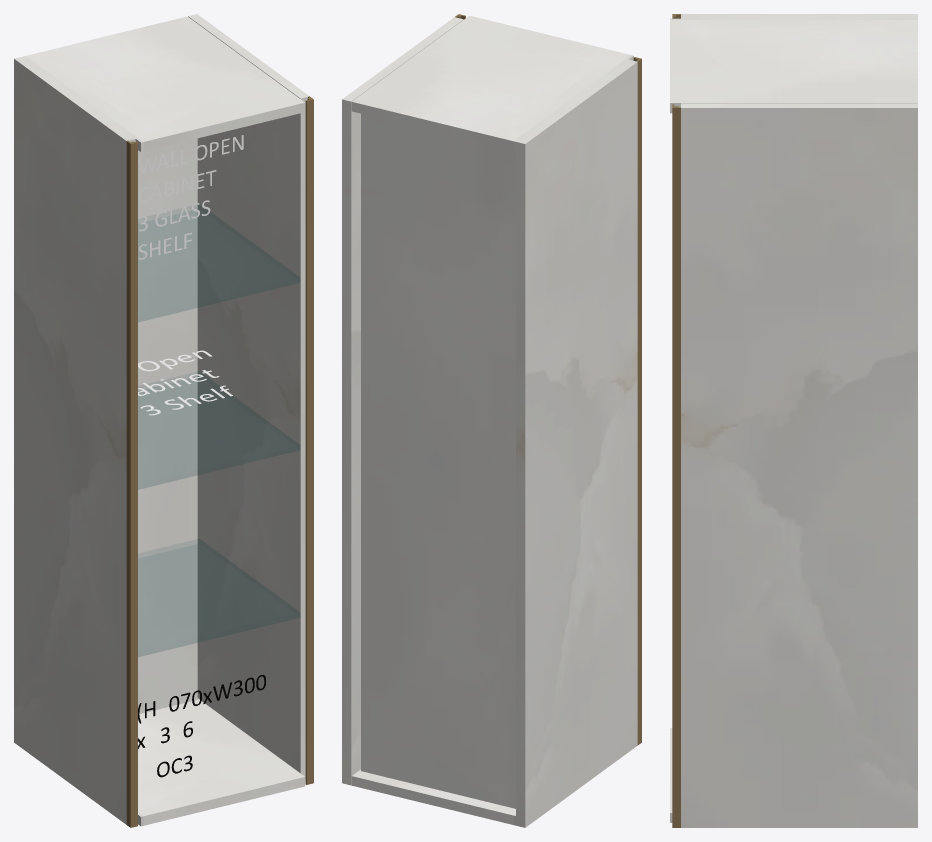
Rendered from WC-OP-NHX-ST-3SG-XXX-XXX-300-1085-336-15.glb.
3 renders of one model, left to right at view 1: azimuth 30°, elevation 25°; view 2: azimuth 150°, elevation 25°; view 3: azimuth 270°, elevation 25°, orthographic. The views are drawn at different scales.
Visible parts, largest first — view 1: TP_node, TP_node_0, TP_node_2, TP, TP_node_1, Object_node_1, Object_node_7, Object_node_4, Object_node_10, Object_node_16, 2D text, 2D text_node_1 (+1 smaller); view 2: TP_node_2, TP_node, TP, TP_node_0, Object_node_10, TP_node_1; view 3: TP_node_0, TP, Object_node_16, TP_node.
Part boxes in pixels (box(x1,y1,x2,y2)): TP_node: box(14, 56, 135, 824); TP_node_0: box(188, 14, 309, 780); TP_node_2: box(138, 138, 197, 713); TP: box(23, 16, 305, 151); TP_node_1: box(138, 698, 305, 826); Object_node_1: box(138, 539, 299, 656); Object_node_7: box(138, 205, 299, 321); Object_node_4: box(138, 371, 299, 489); Object_node_10: box(126, 140, 137, 827); Object_node_16: box(305, 96, 313, 784); 2D text: box(138, 135, 243, 259); 2D text_node_1: box(138, 350, 232, 415); TP_node_2: box(361, 113, 515, 808); TP_node: box(516, 59, 637, 827); TP: box(351, 15, 633, 151); TP_node_0: box(342, 17, 463, 785); Object_node_10: box(633, 57, 641, 745); TP_node_1: box(351, 769, 515, 825); TP_node_0: box(681, 103, 917, 827); TP: box(670, 18, 917, 113); Object_node_16: box(672, 104, 680, 827); TP_node: box(681, 14, 917, 18).
Size of what is drawn, in the model's own units: 0.3 by 1.07 by 0.334.
Materials: 6 (2 with a texture image).
